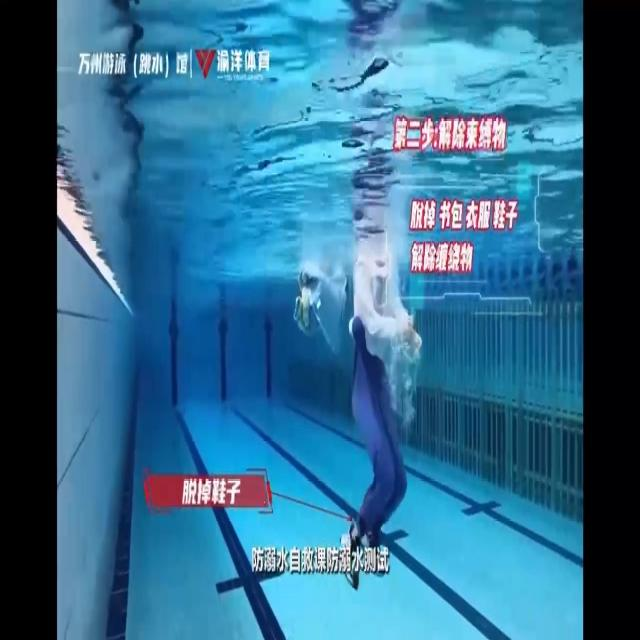Drowning: (338, 254, 423, 590)
